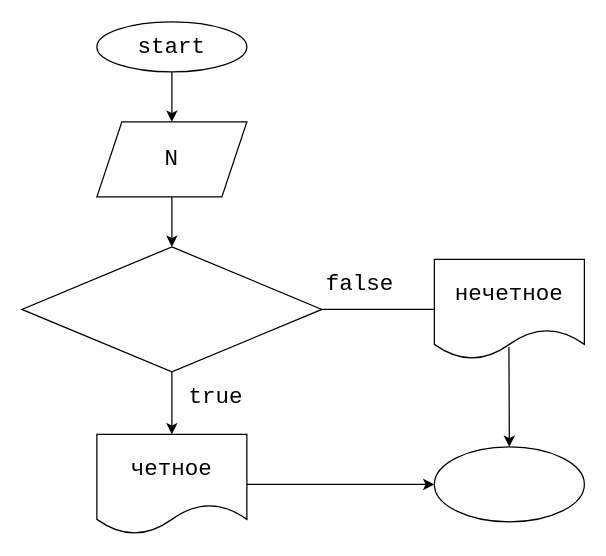
This 606x556 diagram has some shape labels left out. The shapes that lost their labels are listed below. From the top down, each one's box as (x1, y1, x2, y2) in pixels, then its label:
(21, 246, 322, 372): N/2 без остатка?
(433, 446, 584, 522): end
